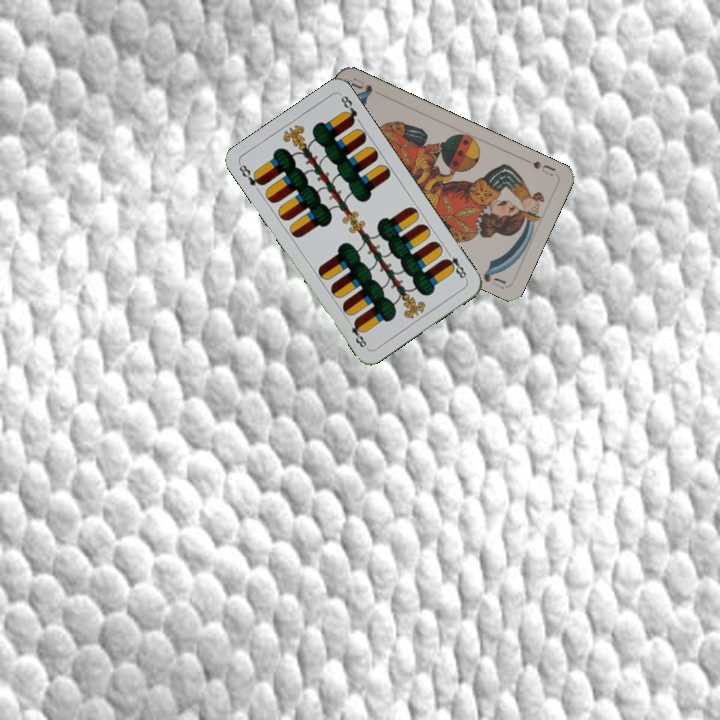E8: (440, 247, 470, 283), (235, 160, 266, 188)
SU: (529, 157, 558, 179)
